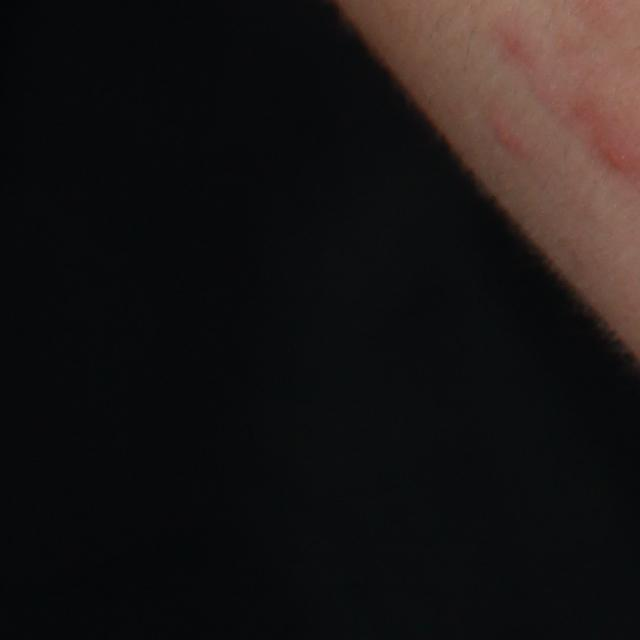papule: (489, 111, 531, 152), (603, 142, 636, 178)
